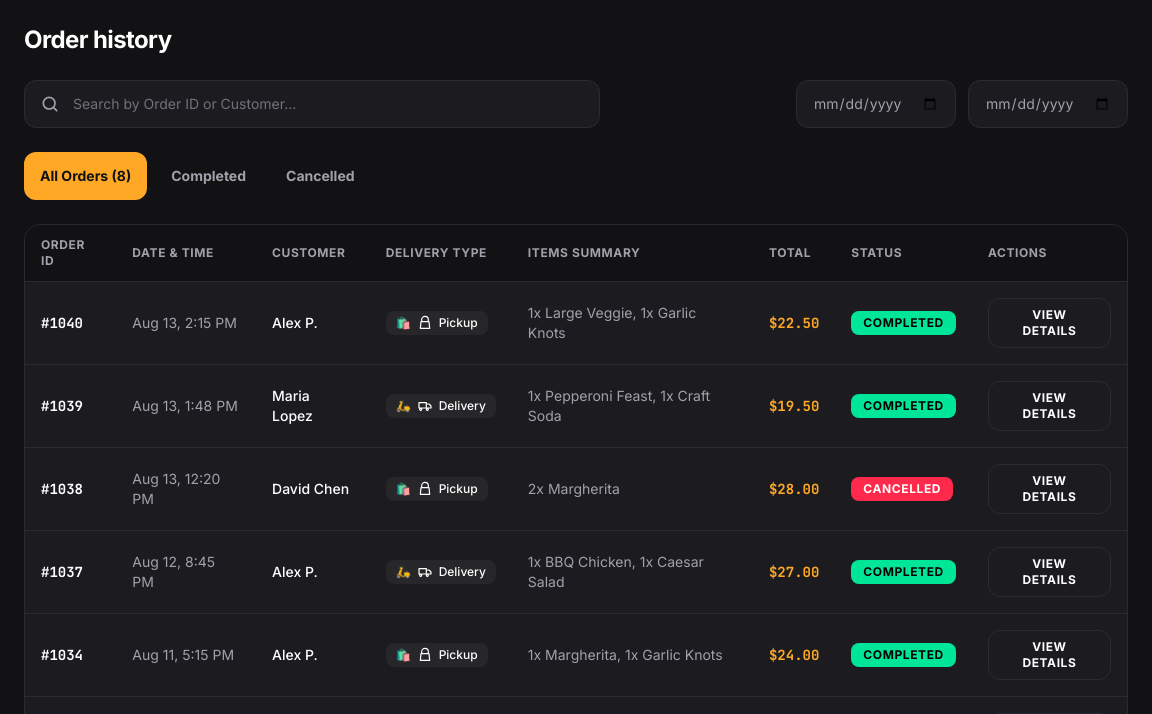
Test case: OrderHistoryView › filters orders by status tab
The width and height of the screenshot is (1152, 714).
Check: the navigation bar with test id "order-filter-tabs" is shown, box [24, 152, 371, 200]
Click the tab with test id "order-filter-cancelled" at (320, 176), box [270, 152, 370, 200]
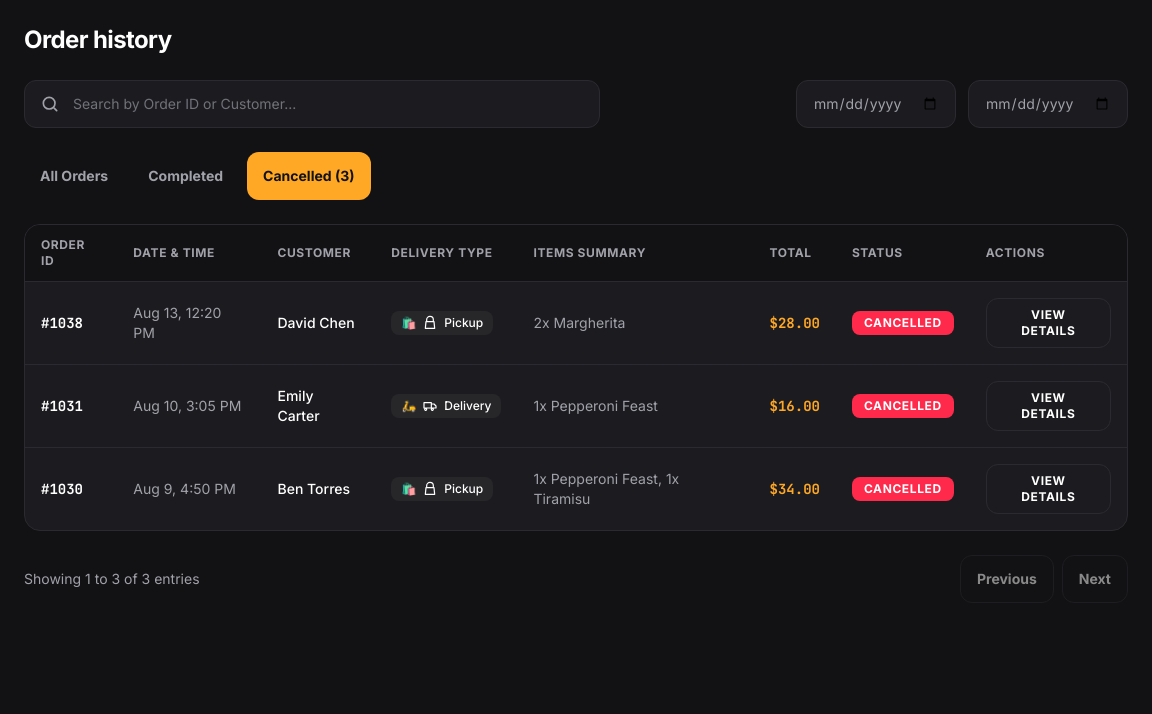
Check: the text "David Chen" is shown, box [262, 282, 375, 364]
Check: the element with test id "order-history-pagination" shows "of 3 entries", box [24, 555, 1128, 603]
Check: the text "Alex P." is gone
